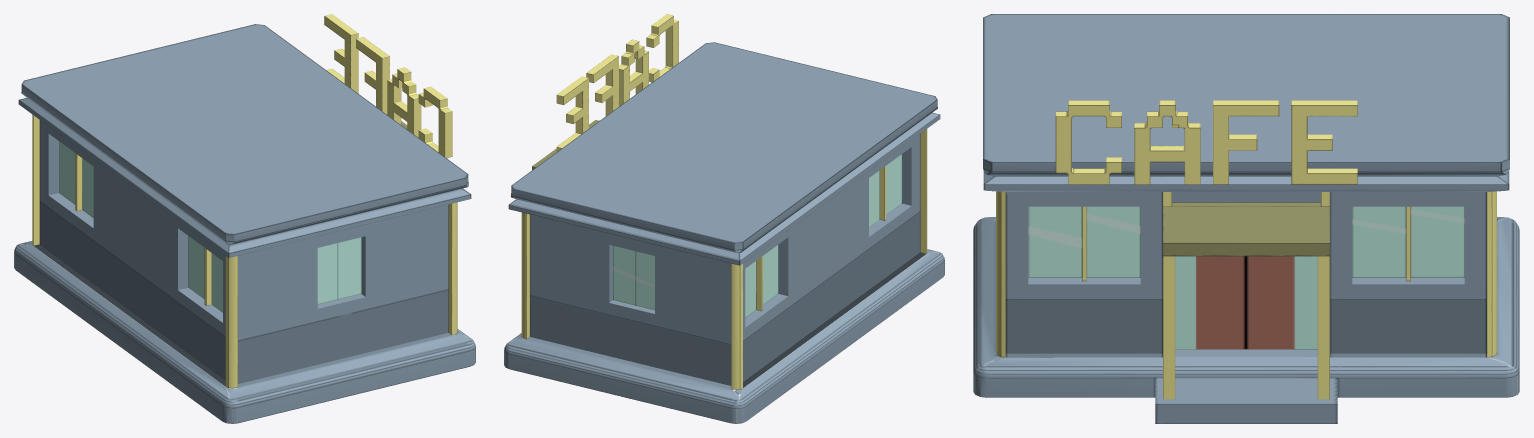
The model's file is cafe_withmaterial.fbx.
3 renders of one model, left to right at view 1: azimuth 30°, elevation 25°; view 2: azimuth 150°, elevation 25°; view 3: azimuth 270°, elevation 25°, orthographic. The views are drawn at different scales.
Parts seen in each view (by area): view 1: nurbsToPoly4; view 2: nurbsToPoly4; view 3: nurbsToPoly4.
Part boxes in pixels (left/top/right/bottom): nurbsToPoly4: left=14, top=14, right=475, bottom=423; nurbsToPoly4: left=504, top=14, right=944, bottom=423; nurbsToPoly4: left=973, top=14, right=1519, bottom=423.
Bounding box in the file's own units: 2.34 × 1.79 × 3.
Materials: 1 (1 with a texture image).
